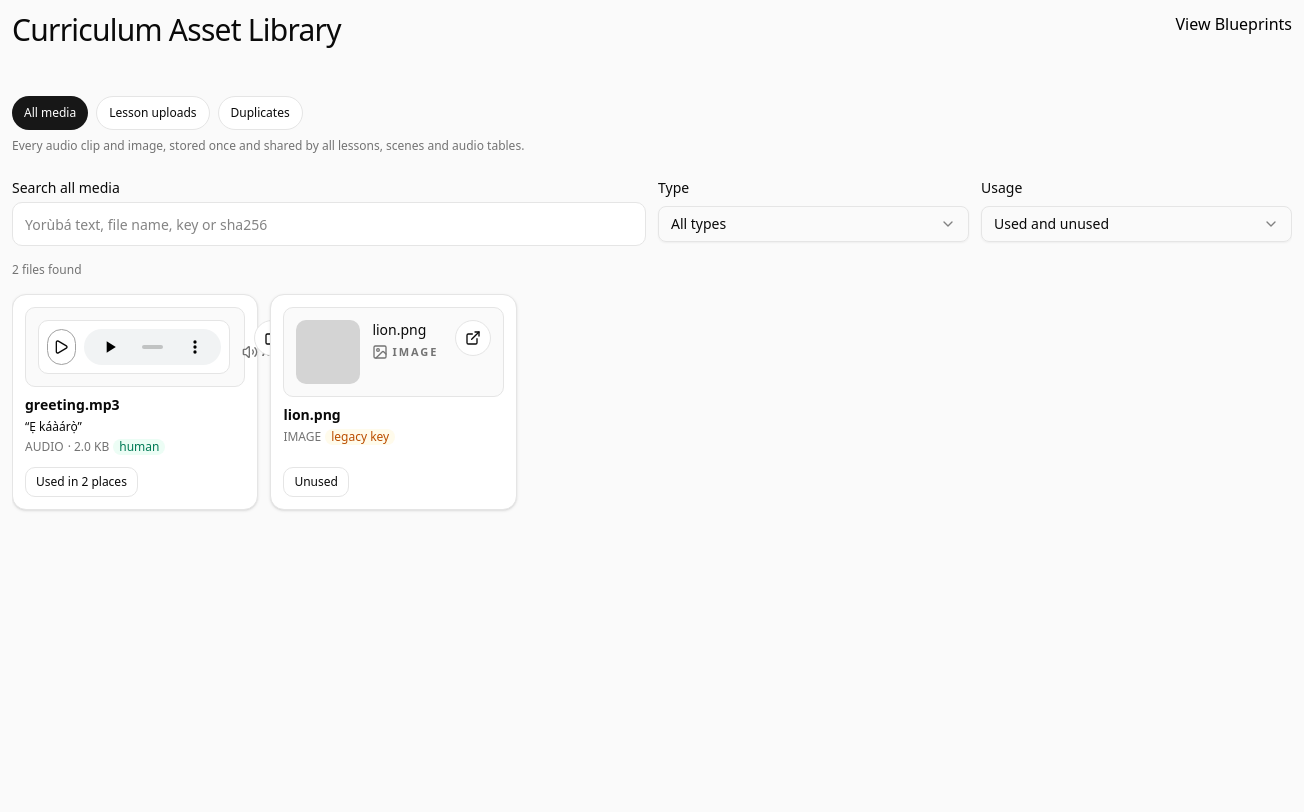
CurriculumAssetLibraryPage › keeps the lesson-upload bindings view
What coordinates should you click on to do the following:
click the tab "Lesson uploads"
I would click on:
 (153, 113)
Its box is x1=96 y1=96 x2=210 y2=130.
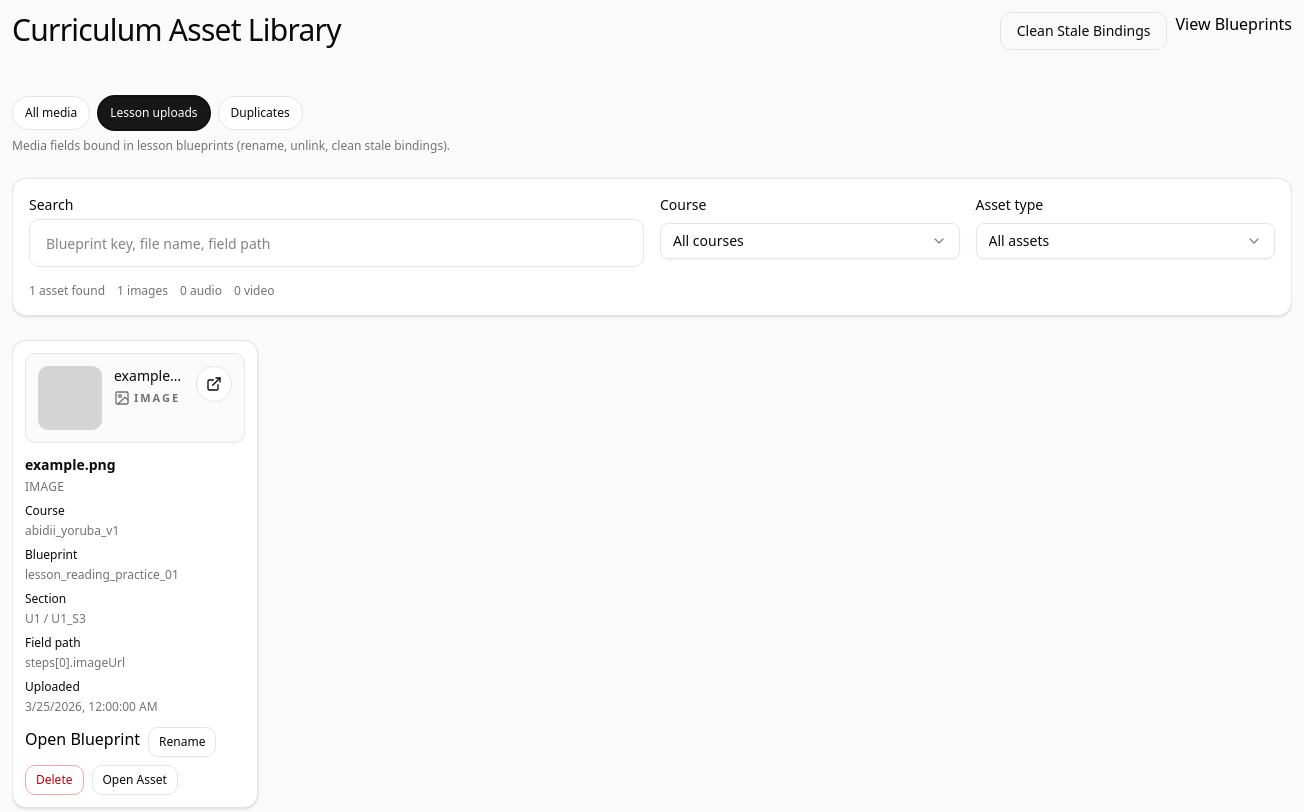
Result: the text "lesson_reading_practice_01" is shown at x1=25 y1=566 x2=179 y2=583
Result: the text "steps[0].imageUrl" is shown at x1=25 y1=654 x2=125 y2=671
Result: the button "Clean Stale Bindings" is shown at x1=1000 y1=12 x2=1168 y2=50
